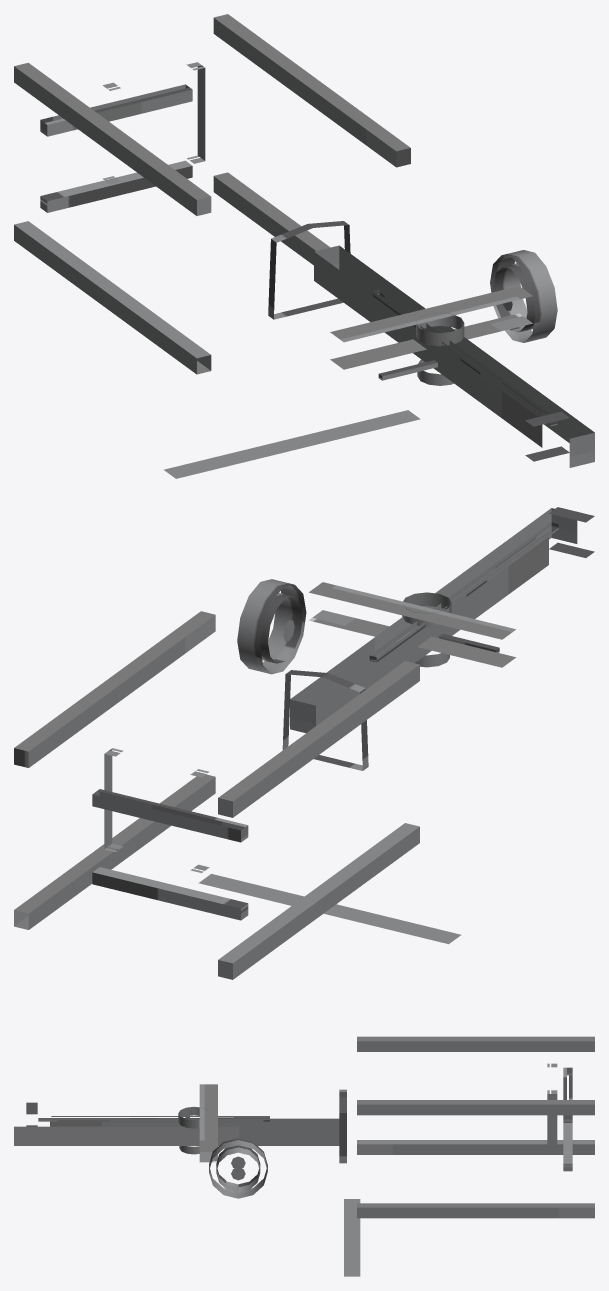
3 renders of one model, top to bottom at view 1: azimuth 30°, elevation 25°; view 2: azimuth 150°, elevation 25°; view 3: azimuth 270°, elevation 25°, orthographic. The views are drawn at different scales.
Bounding box in the file's own units: 1.01 × 0.9977 × 2.76.
